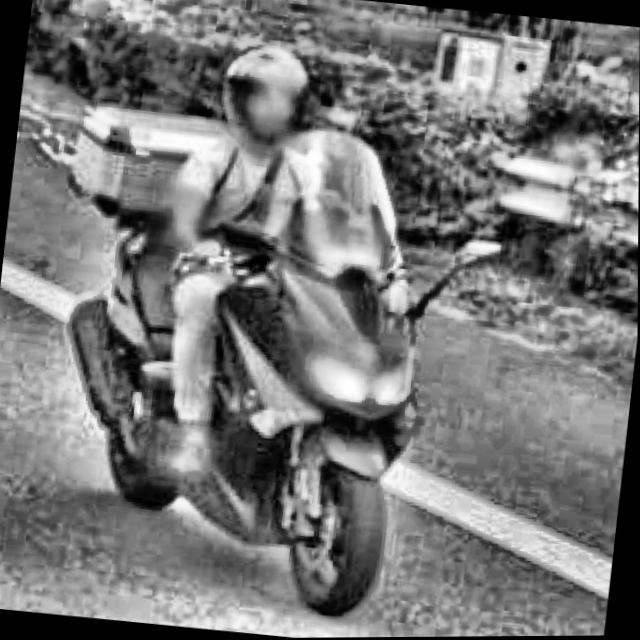motorcycle: (0, 87, 517, 633)
